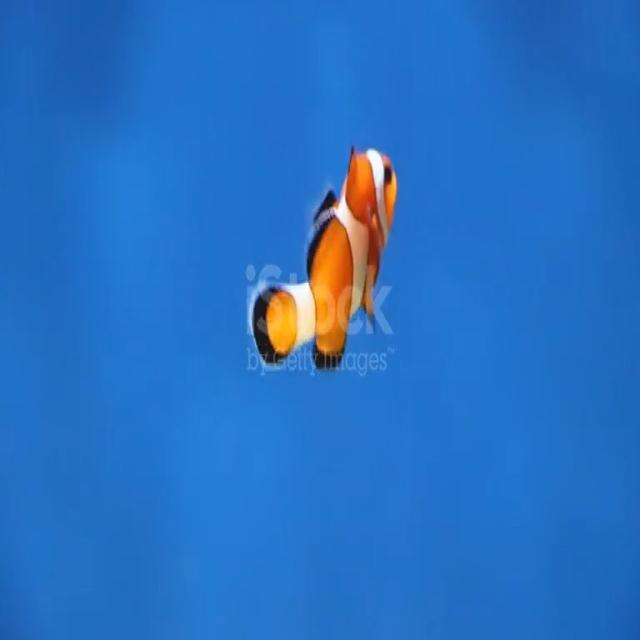fish: (252, 134, 401, 387)
